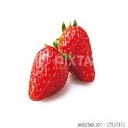strawberry: (53, 19, 96, 83), (27, 44, 70, 103)
